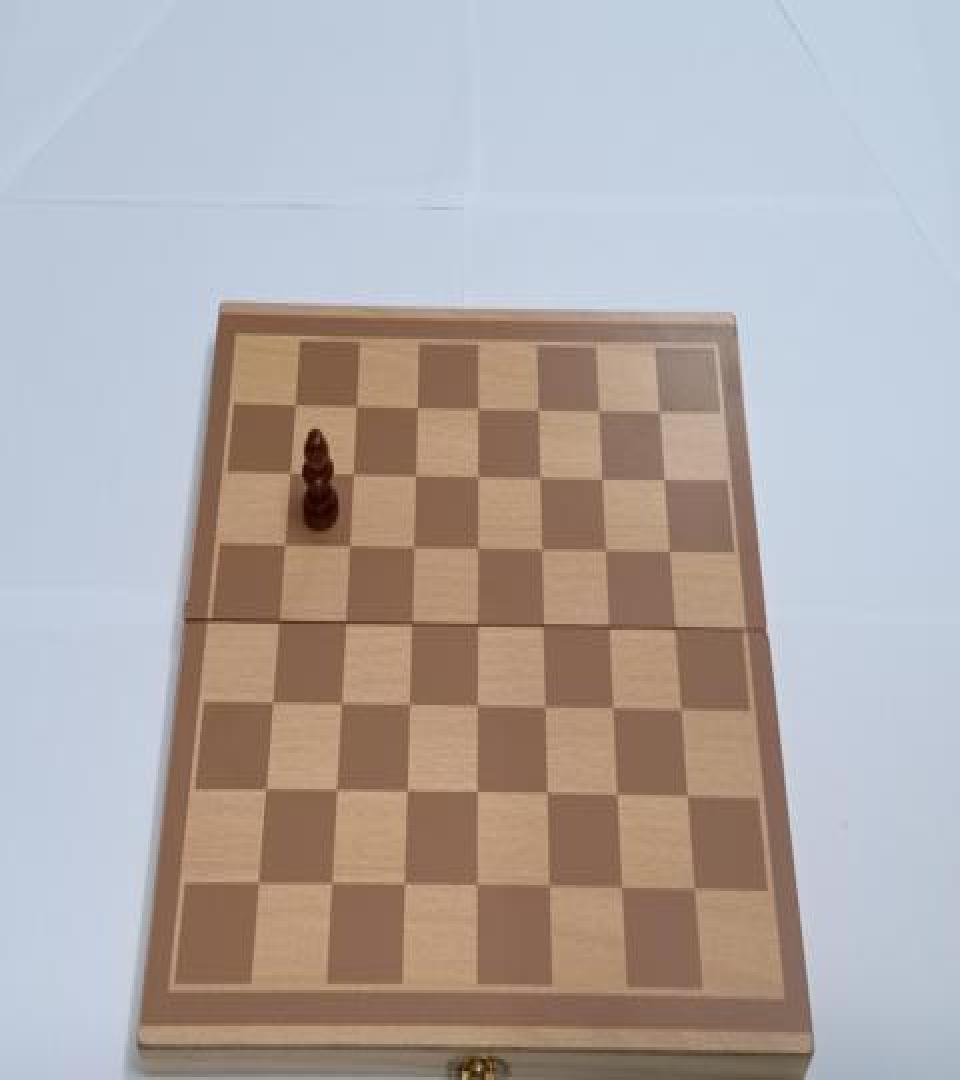xcorner: (285, 394, 303, 422), (332, 694, 350, 722), (405, 466, 423, 494), (468, 466, 486, 494), (589, 400, 607, 428), (270, 612, 288, 639), (264, 693, 282, 720), (258, 780, 276, 807), (346, 396, 364, 423), (343, 465, 361, 492), (339, 537, 357, 564), (328, 780, 346, 807), (407, 397, 425, 424), (404, 538, 422, 565), (402, 615, 420, 642), (400, 696, 418, 723), (396, 873, 414, 900), (468, 399, 486, 426), (468, 540, 486, 567), (468, 617, 486, 644), (468, 783, 486, 810), (468, 874, 486, 901), (528, 399, 546, 426), (530, 468, 548, 495), (532, 540, 550, 567), (534, 617, 552, 644), (538, 785, 556, 812), (540, 876, 558, 903), (593, 470, 611, 497), (600, 618, 618, 645), (604, 699, 622, 726), (608, 786, 626, 813), (650, 402, 668, 429), (655, 470, 673, 497), (660, 543, 678, 570), (672, 700, 690, 727), (678, 786, 696, 813), (685, 879, 703, 906), (280, 464, 298, 490), (275, 536, 293, 562), (251, 872, 269, 898), (336, 614, 354, 640), (324, 872, 342, 898), (398, 782, 416, 808), (468, 698, 486, 724), (536, 698, 554, 724), (596, 542, 614, 568), (613, 878, 631, 904), (666, 620, 684, 646)
